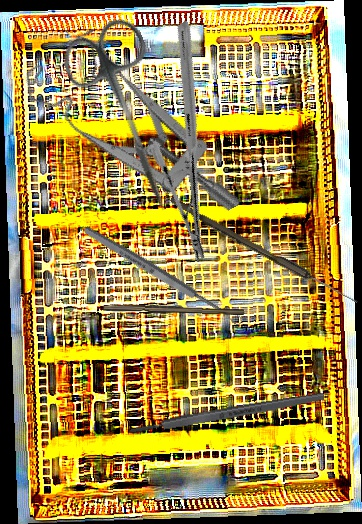Iris Scissors: (55, 12, 206, 225)
Needle Holder: (83, 20, 300, 263)
Scalpel Handle: (128, 390, 326, 437), (102, 302, 245, 316)
Speculum: (14, 4, 244, 269)
Surgical Spoon: (166, 196, 361, 307), (81, 223, 245, 329)
